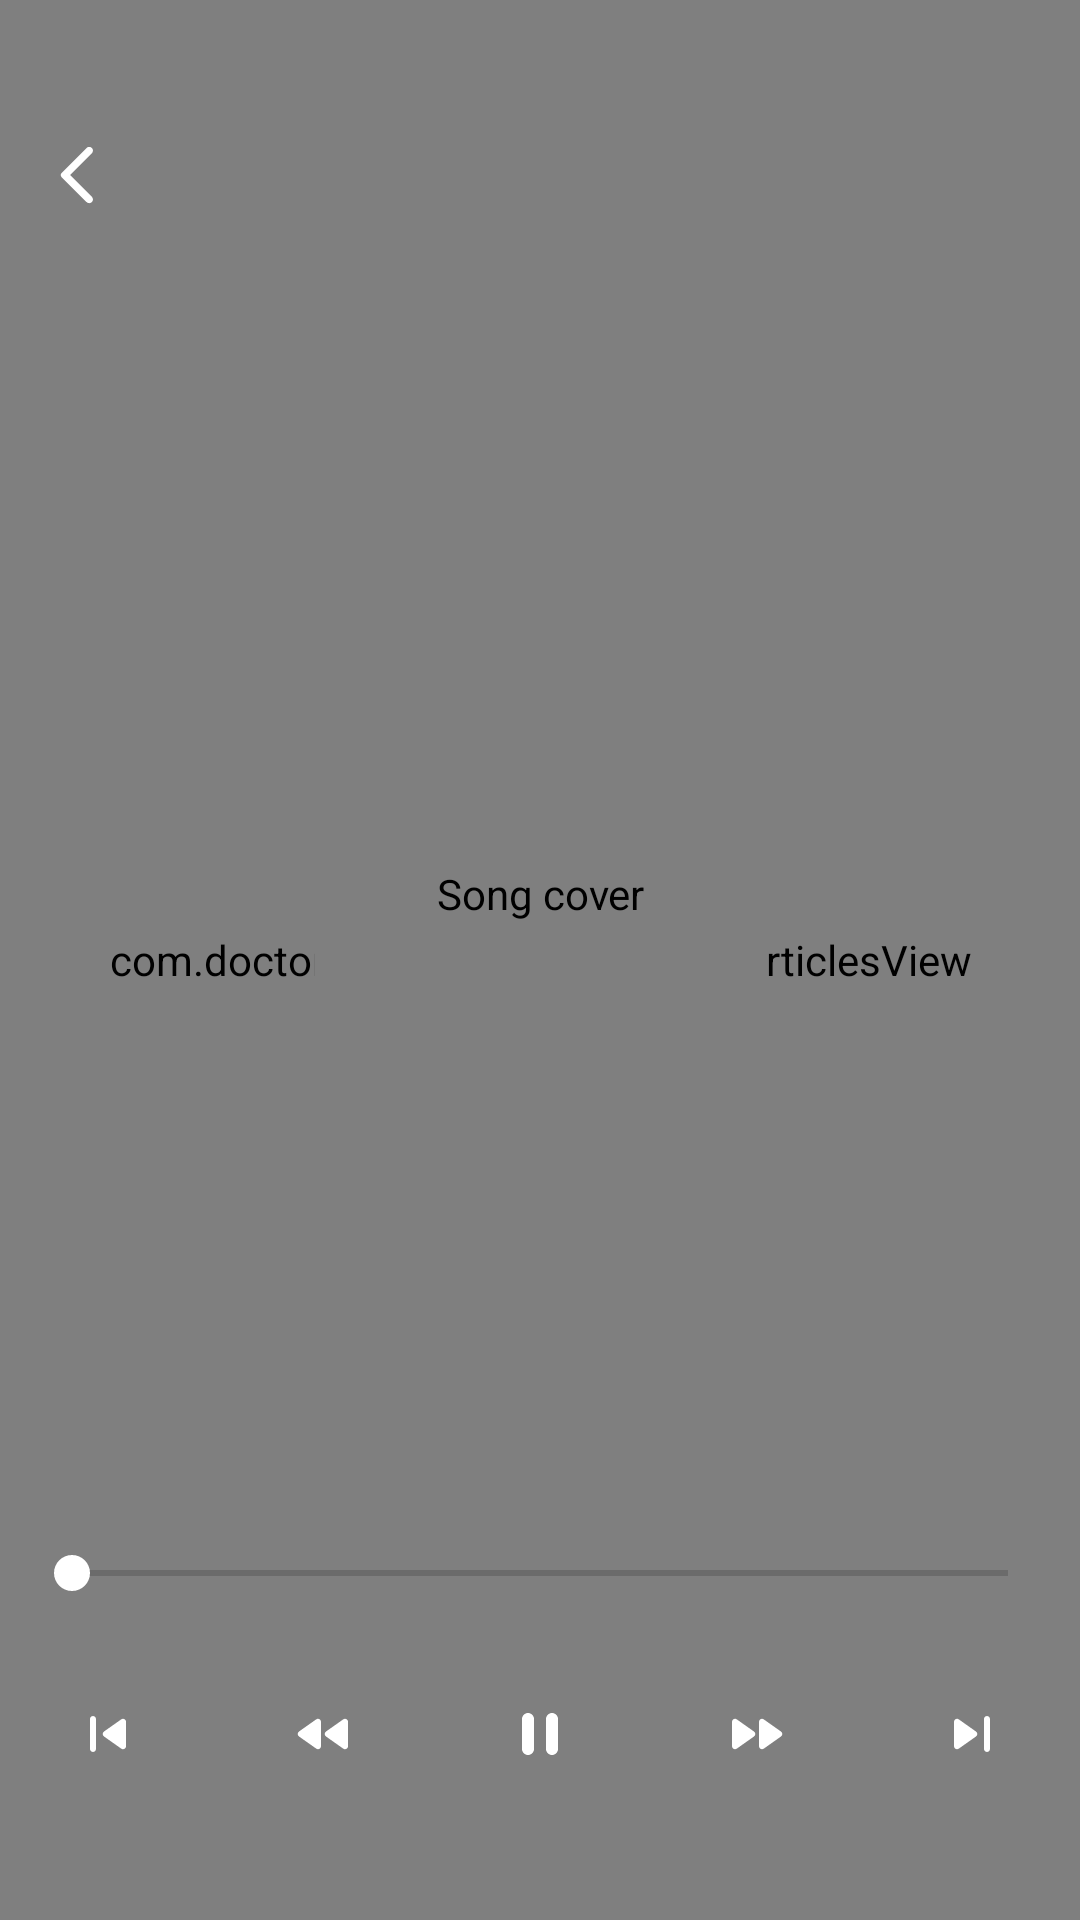

Named icons in this screenshot (1080px×1920px) and their centers, (x=x, y=y):
Fast forward: (x=757, y=1734)
Fast rewind: (x=323, y=1734)
Go up: (x=77, y=175)
Pause: (x=540, y=1734)
Skip next: (x=972, y=1734)
Skip previous: (x=108, y=1734)
